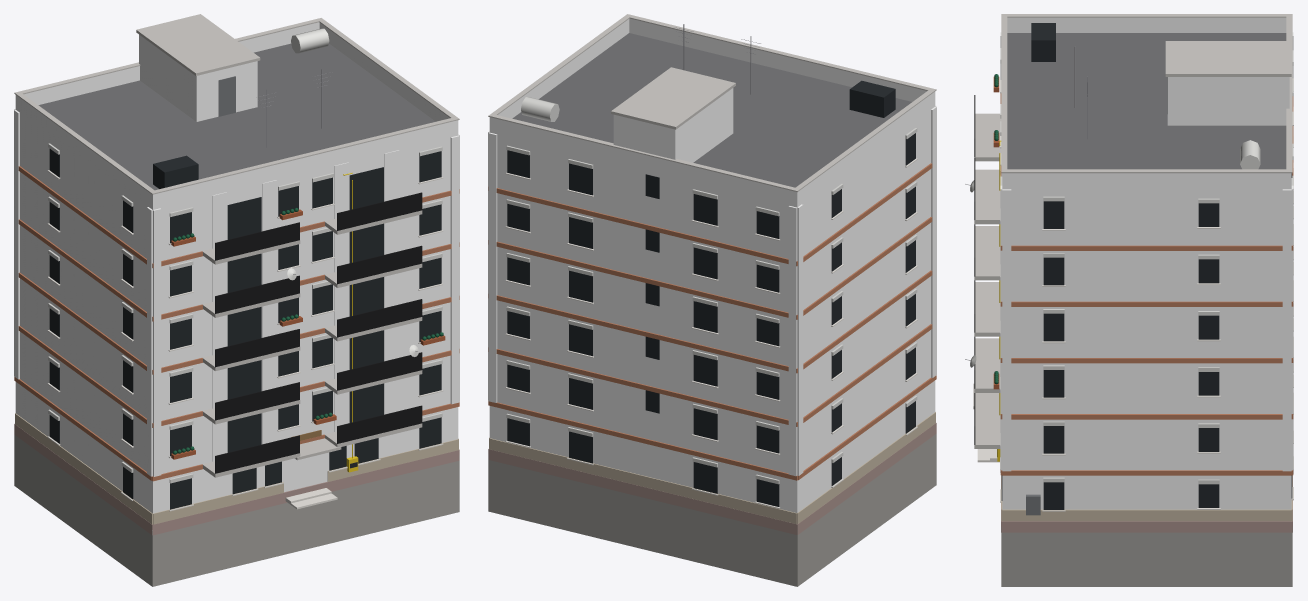
The model's file is bina_06.glb.
3 views of the same model, side by side, from view 1: azimuth 30°, elevation 25°; view 2: azimuth 150°, elevation 25°; view 3: azimuth 270°, elevation 25° (orthographic). The views are drawn at different scales.
Visible parts, largest first — view 1: P06_Apt_Konut_A_L1.001; view 2: P06_Apt_Konut_A_L1.001; view 3: P06_Apt_Konut_A_L1.001.
Part boxes in pixels (box(x1,y1,x2,y2)): P06_Apt_Konut_A_L1.001: box(14, 14, 459, 586); P06_Apt_Konut_A_L1.001: box(488, 14, 936, 586); P06_Apt_Konut_A_L1.001: box(965, 14, 1293, 586).
Bounding box in the file's own units: 18.31 × 24.59 × 15.91.
